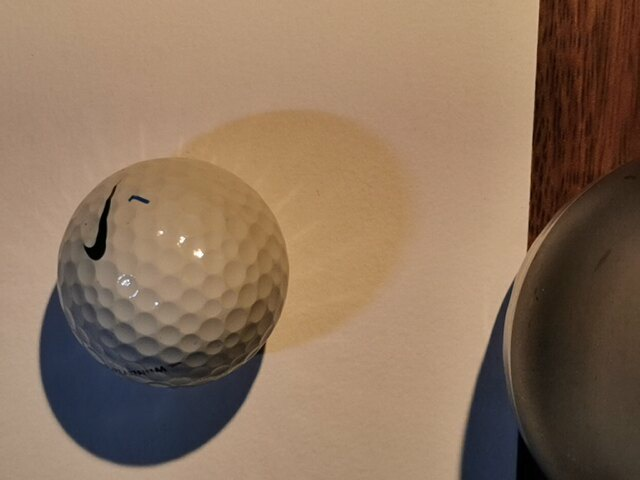Ball: (56, 157, 290, 389)
Nike: (82, 182, 119, 261)
